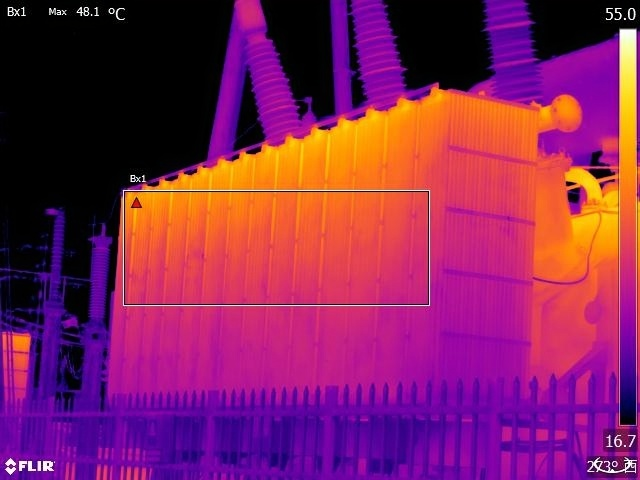lightning arrester: (80, 226, 115, 346)
oil conservator: (459, 31, 616, 172)
post insulator: (44, 204, 70, 315)
transformer: (98, 93, 547, 411)
tube: (228, 1, 302, 132), (479, 1, 548, 104), (344, 1, 411, 94)
